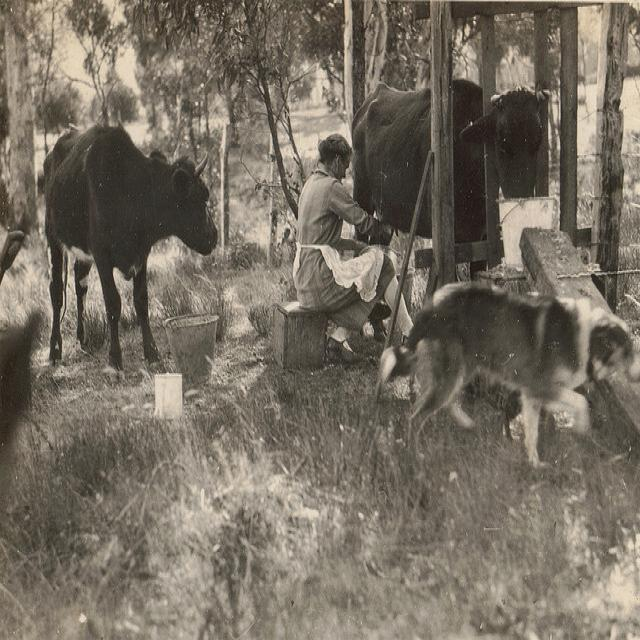cow: (349, 77, 551, 341), (40, 122, 215, 373)
